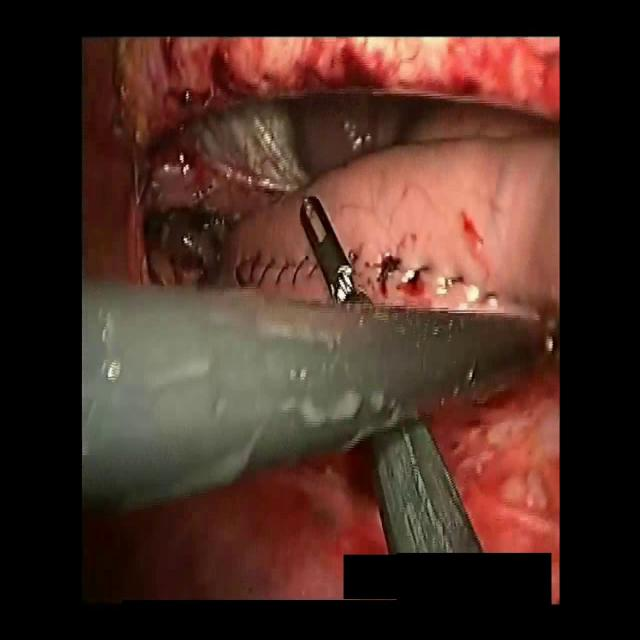surgical-area: (83, 33, 560, 553), (80, 443, 388, 600)
surgical-tool: (80, 282, 554, 515), (365, 420, 484, 556), (300, 196, 374, 304)
